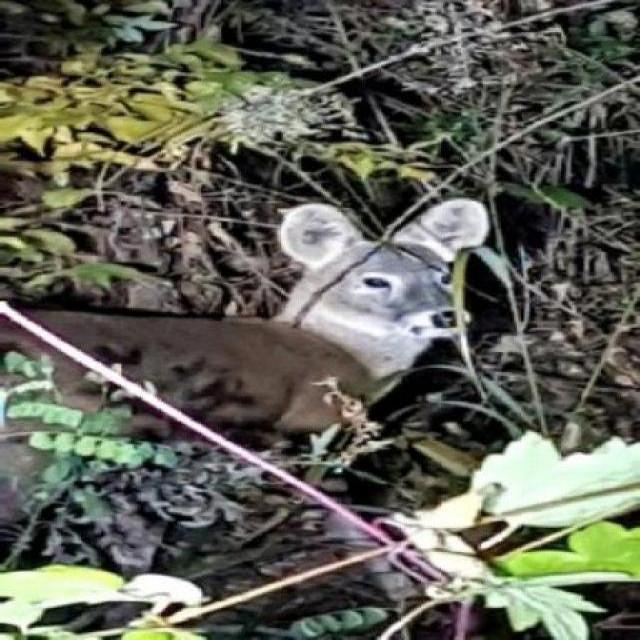deer: (0, 194, 505, 510)
